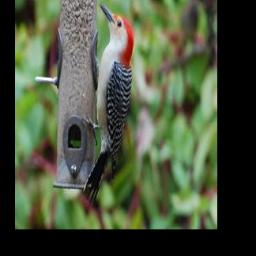Woodpecker: (81, 2, 134, 208)
